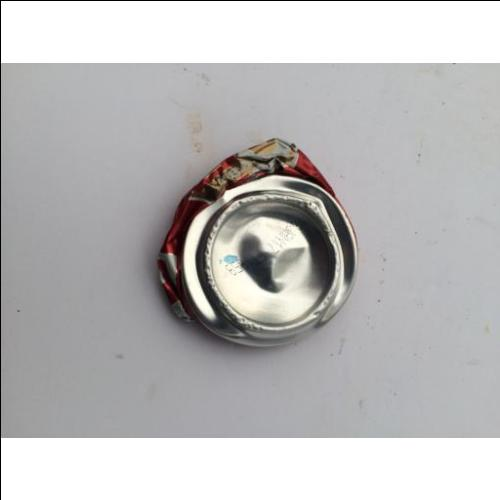metal: (160, 136, 357, 346)
